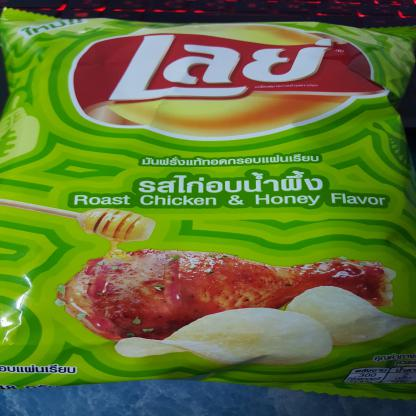potatochip: (0, 6, 416, 401)
